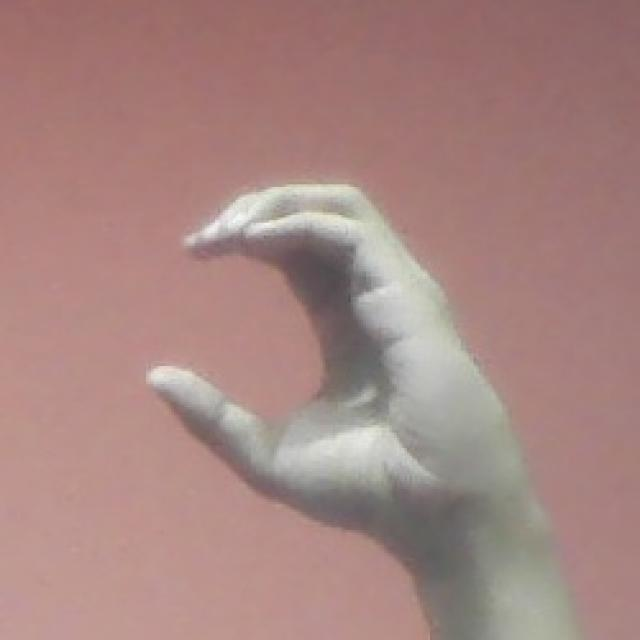Alphabet-C: (151, 184, 591, 640)
